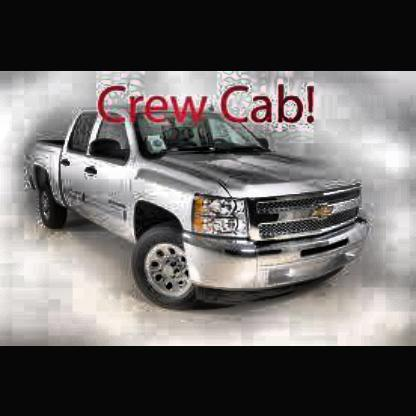Chevrolet Silverado 1500 Hybrid Crew Cab 2012: (22, 106, 377, 317)
